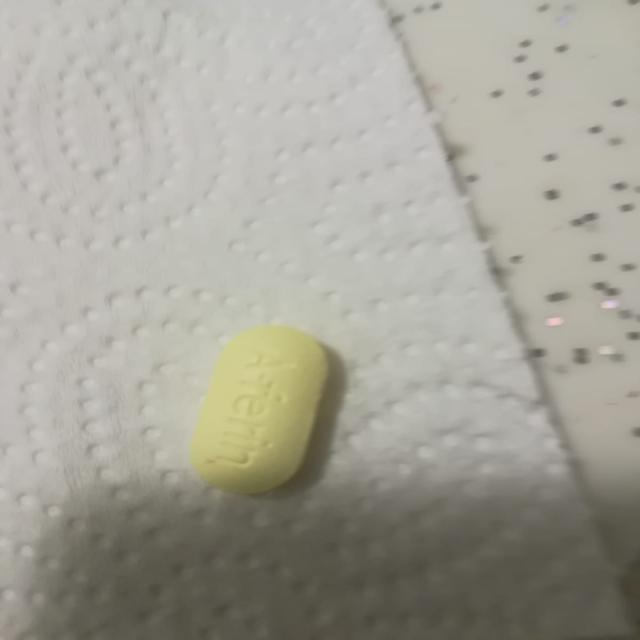pills: (171, 308, 349, 505)
